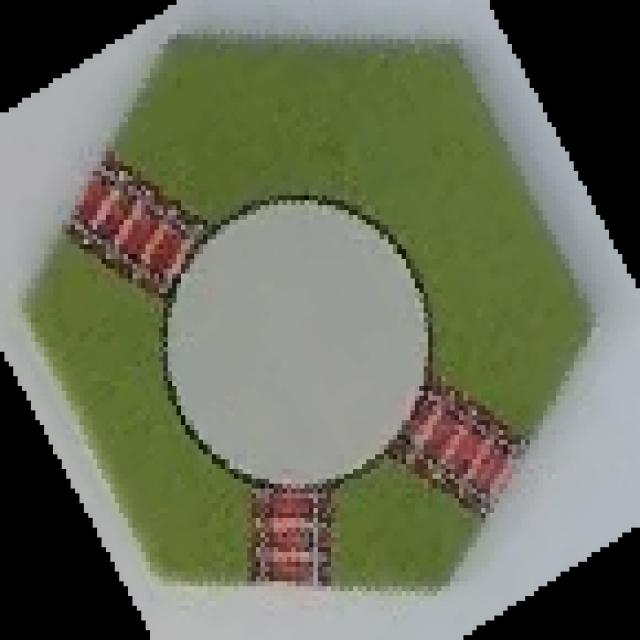10_2: (21, 30, 602, 595)
